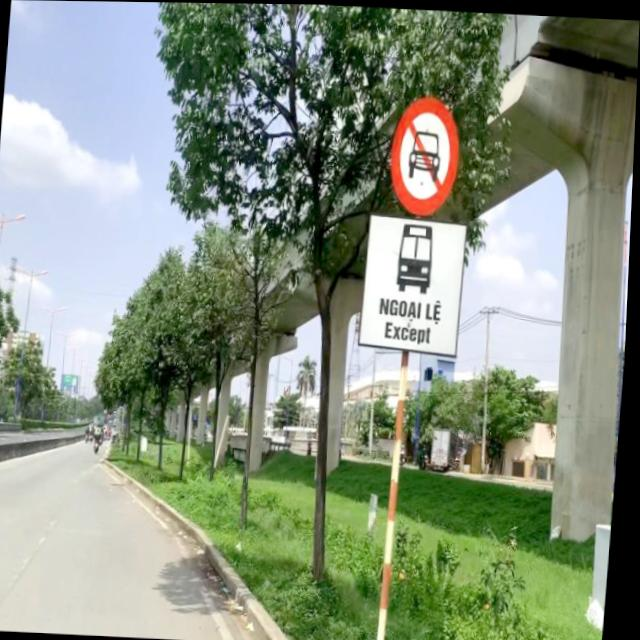Cam xe oto: (386, 92, 466, 218)
